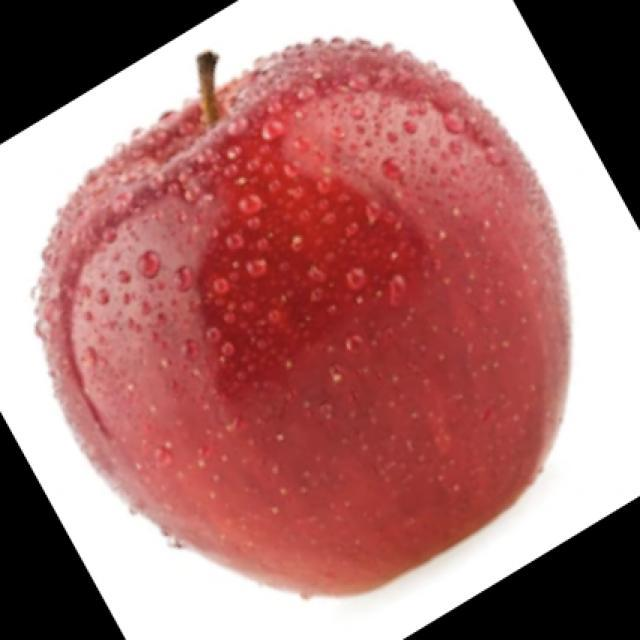Fresh Apple: (45, 57, 563, 593)
